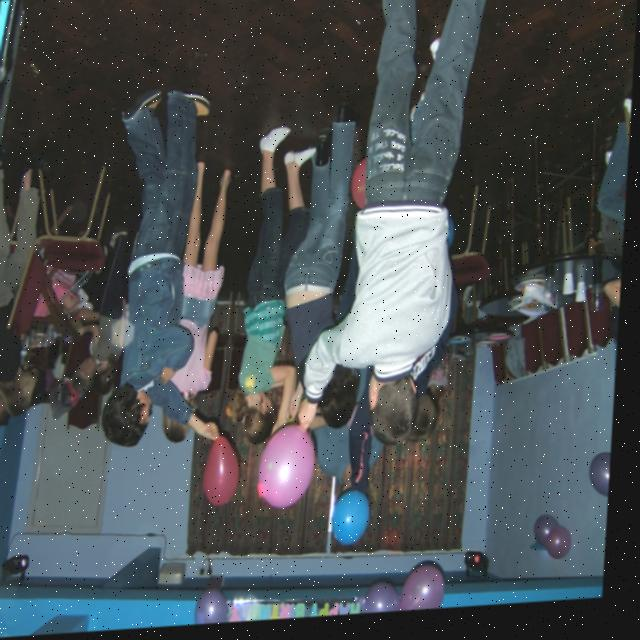balloon: (260, 431, 321, 510), (207, 437, 246, 509), (337, 494, 378, 549), (409, 569, 452, 617), (201, 593, 239, 628), (352, 167, 378, 214), (371, 586, 405, 619), (595, 461, 617, 506), (554, 534, 578, 567), (540, 522, 567, 549)
